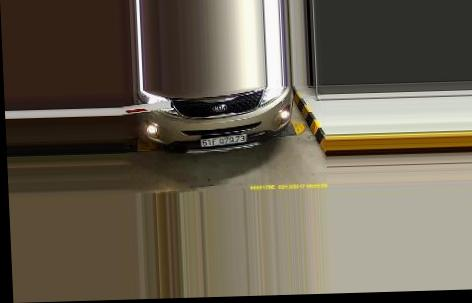License_Plate: (199, 134, 249, 147)
